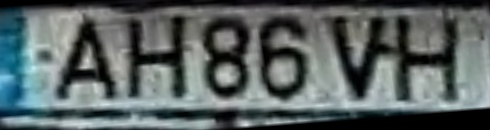6: (257, 11, 313, 104)
8: (197, 11, 254, 104)
A: (49, 17, 123, 102)
H: (393, 13, 464, 107), (124, 13, 190, 102)
V: (324, 12, 396, 106)
